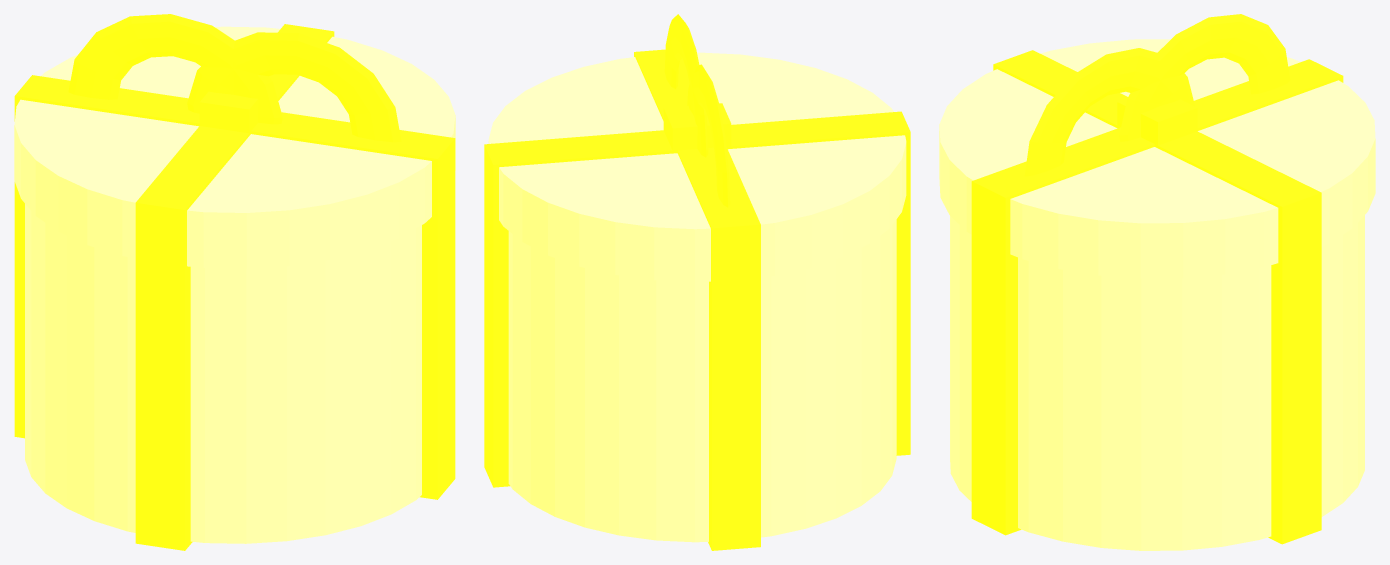
File: Tmpl_Round_Root_228.glb
3 views of the same model, side by side, from view 1: azimuth 30°, elevation 25°; view 2: azimuth 150°, elevation 25°; view 3: azimuth 270°, elevation 25° (orthographic). The views are drawn at different scales.
Parts seen in each view (by area): view 1: Tmpl_Round_Base.226, Tmpl_Round_Lid.226, Tmpl_Round_Ribbon_Y.226, Tmpl_Round_Ribbon_X.226, Tmpl_Round_BowL.226, Tmpl_Round_BowR.226, Tmpl_Round_BowKnot.226; view 2: Tmpl_Round_Base.226, Tmpl_Round_Lid.226, Tmpl_Round_Ribbon_X.226, Tmpl_Round_Ribbon_Y.226, Tmpl_Round_BowR.226, Tmpl_Round_BowL.226, Tmpl_Round_BowKnot.226; view 3: Tmpl_Round_Base.226, Tmpl_Round_Lid.226, Tmpl_Round_Ribbon_Y.226, Tmpl_Round_Ribbon_X.226, Tmpl_Round_BowL.226, Tmpl_Round_BowR.226, Tmpl_Round_BowKnot.226.
Boxes of the visible parts, x1,y1,x2,y2 form: Tmpl_Round_Base.226: (25,204,421,543); Tmpl_Round_Lid.226: (14,26,455,268); Tmpl_Round_Ribbon_Y.226: (135,24,334,550); Tmpl_Round_Ribbon_X.226: (14,75,455,499); Tmpl_Round_BowL.226: (68,14,282,124); Tmpl_Round_BowR.226: (187,32,401,142); Tmpl_Round_BowKnot.226: (199,91,258,135); Tmpl_Round_Base.226: (508,219,896,542); Tmpl_Round_Lid.226: (488,52,906,281); Tmpl_Round_Ribbon_X.226: (634,49,760,550); Tmpl_Round_Ribbon_Y.226: (484,111,910,487); Tmpl_Round_BowR.226: (664,14,708,157); Tmpl_Round_BowL.226: (687,64,730,207); Tmpl_Round_BowKnot.226: (663,103,731,153); Tmpl_Round_Base.226: (950,215,1364,550); Tmpl_Round_Lid.226: (939,39,1375,278); Tmpl_Round_Ribbon_Y.226: (993,50,1321,544); Tmpl_Round_Ribbon_X.226: (971,59,1343,535); Tmpl_Round_BowL.226: (1119,14,1290,141); Tmpl_Round_BowR.226: (1024,48,1195,176); Tmpl_Round_BowKnot.226: (1117,99,1197,148).
Bounding box in the file's own units: 0.6967 × 0.7583 × 0.6967.
